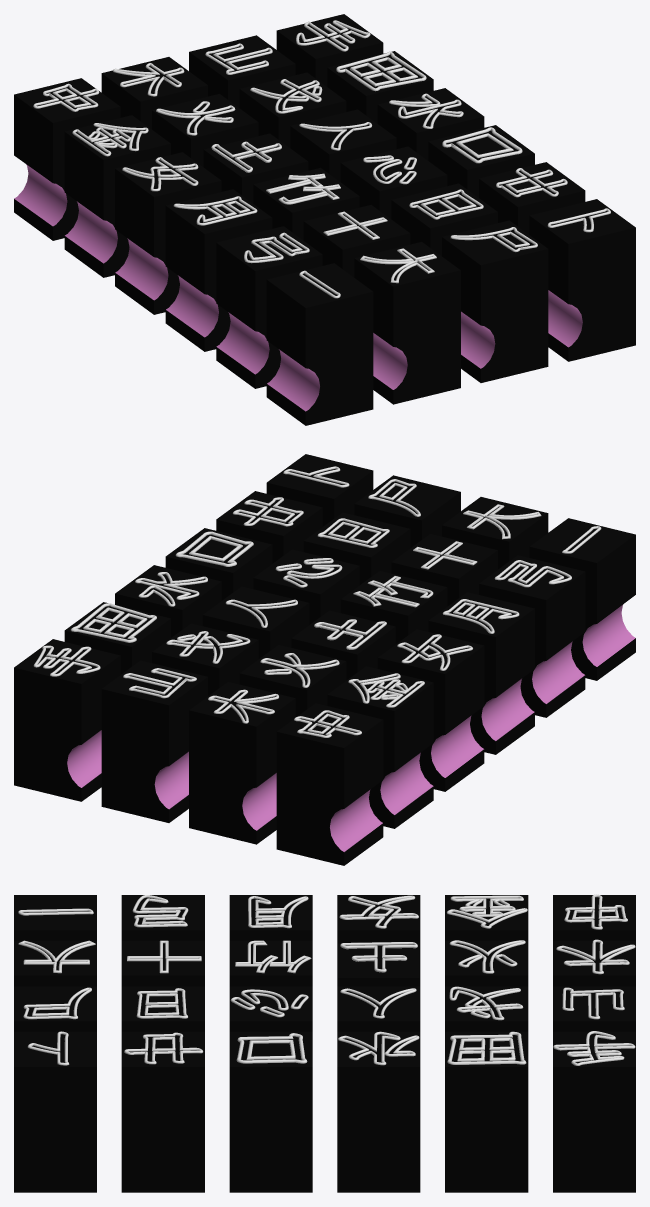
Rendered from ChineseWord.fbx.
3 renders of one model, top to bottom at view 1: azimuth 30°, elevation 25°; view 2: azimuth 150°, elevation 25°; view 3: azimuth 270°, elevation 25°, orthographic. The views are drawn at different scales.
Parts seen in each view (by area): view 1: ABCWord039, ABCWord057, ABCWord043, ABCWord050, ABCWord049, ABCWord048, ABCWord056, ABCWord037, ABCWord042, ABCWord053, ABCWord040, ABCWord047 (+34 smaller); view 2: ABCWord048, ABCWord038, ABCWord041, ABCWord062, ABCWord039, ABCWord037, ABCWord056, ABCWord049, ABCWord042, ABCWord053, ABCWord057, ABCWord040 (+35 smaller); view 3: ABCWord057, ABCWord058, ABCWord060, ABCWord059, ABCWord062, ABCWord061, ABCWord039, ABCWord053, ABCWord040, ABCWord037, ABCWord047, ABCWord038 (+36 smaller).
Boxes of the visible parts, x1,y1,x2,y2 form: ABCWord039: [266, 263, 373, 425]; ABCWord057: [529, 199, 635, 361]; ABCWord043: [442, 220, 548, 382]; ABCWord050: [354, 242, 460, 404]; ABCWord049: [165, 189, 272, 351]; ABCWord048: [14, 78, 120, 240]; ABCWord056: [216, 226, 322, 388]; ABCWord037: [115, 152, 221, 314]; ABCWord042: [64, 115, 170, 277]; ABCWord053: [290, 109, 396, 181]; ABCWord040: [303, 205, 410, 277]; ABCWord047: [152, 94, 258, 166]; ABCWord048: [276, 703, 383, 865]; ABCWord038: [101, 660, 207, 822]; ABCWord041: [189, 682, 295, 844]; ABCWord062: [14, 639, 120, 801]; ABCWord039: [529, 518, 635, 680]; ABCWord037: [377, 629, 484, 791]; ABCWord056: [479, 555, 585, 717]; ABCWord049: [428, 592, 534, 754]; ABCWord042: [327, 666, 433, 828]; ABCWord053: [202, 586, 309, 658]; ABCWord057: [266, 454, 373, 526]; ABCWord040: [391, 534, 497, 606]; ABCWord057: [14, 1031, 96, 1192]; ABCWord058: [121, 1031, 204, 1192]; ABCWord060: [337, 1031, 420, 1192]; ABCWord059: [229, 1031, 312, 1192]; ABCWord062: [553, 1031, 635, 1192]; ABCWord061: [445, 1031, 528, 1192]; ABCWord039: [14, 895, 96, 940]; ABCWord053: [337, 986, 420, 1031]; ABCWord040: [121, 940, 204, 986]; ABCWord037: [337, 895, 420, 986]; ABCWord047: [445, 940, 528, 986]; ABCWord038: [553, 986, 635, 1031].
Size of the model in its own units: 18.86 by 6.55 by 28.86.
